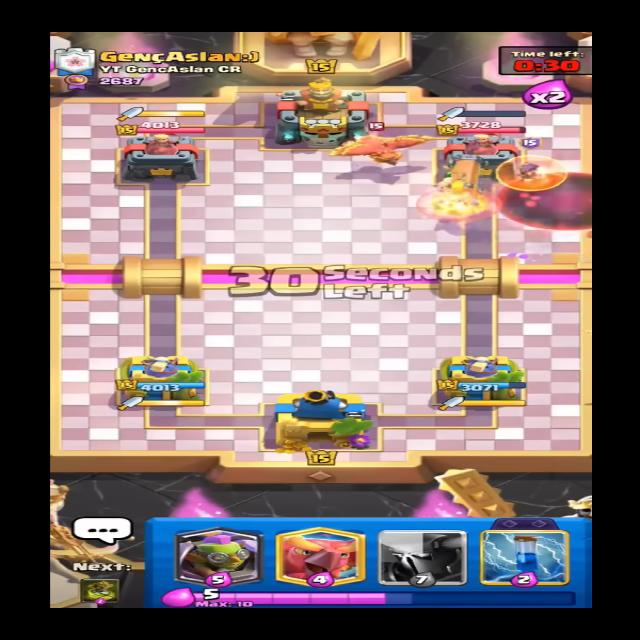evo-wizard: (497, 143, 578, 191)
phoenix: (328, 121, 436, 168)
